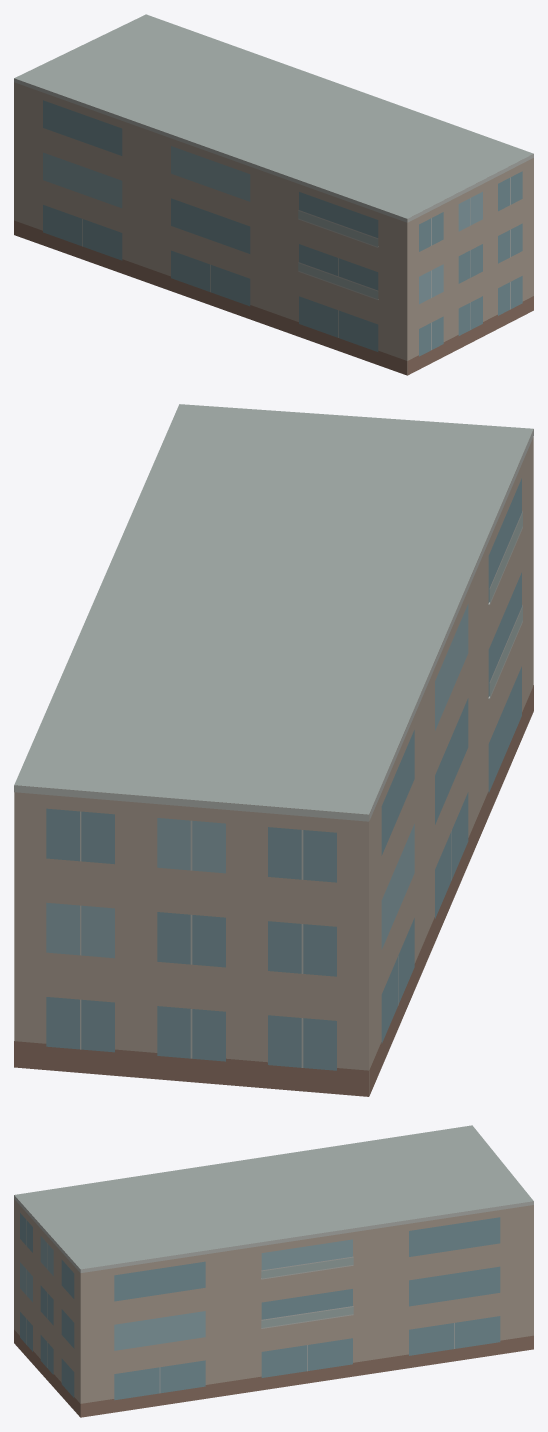
File: survey-upis-32865228.glb
3 renders of one model, top to bottom at view 1: azimuth 30°, elevation 25°; view 2: azimuth 150°, elevation 25°; view 3: azimuth 270°, elevation 25°, orthographic. The views are drawn at different scales.
Parts seen in each view (by area): view 1: survey-upis-32865228.tmp; view 2: survey-upis-32865228.tmp; view 3: survey-upis-32865228.tmp.
Boxes of the visible parts, x1=… form: survey-upis-32865228.tmp: x1=14, y1=14, x2=533, y2=375; survey-upis-32865228.tmp: x1=14, y1=404, x2=533, y2=1096; survey-upis-32865228.tmp: x1=14, y1=1125, x2=533, y2=1417.
Size of the model in its own units: 20.26 by 9.7 by 30.85.
